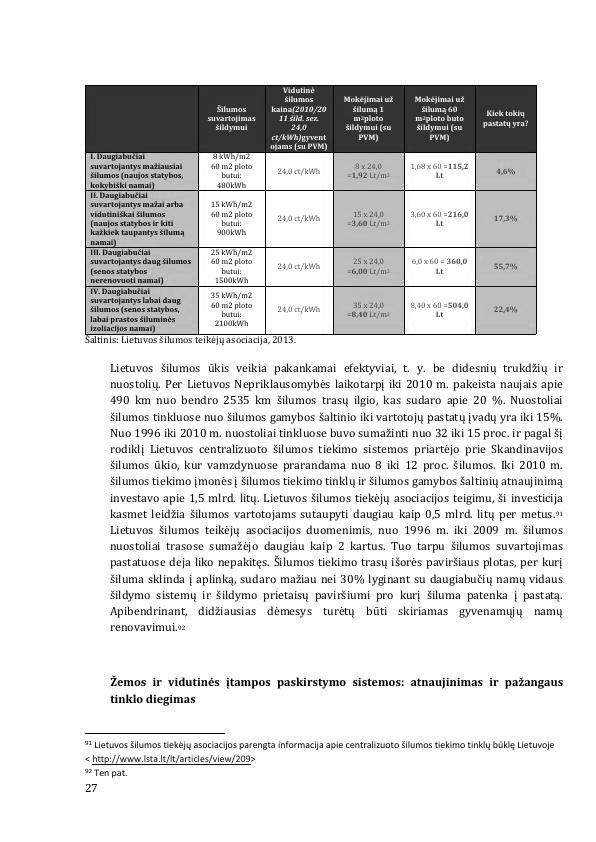table: (81, 82, 538, 336)
text: (104, 360, 568, 634), (81, 737, 559, 780), (106, 673, 569, 710), (82, 336, 298, 347)
